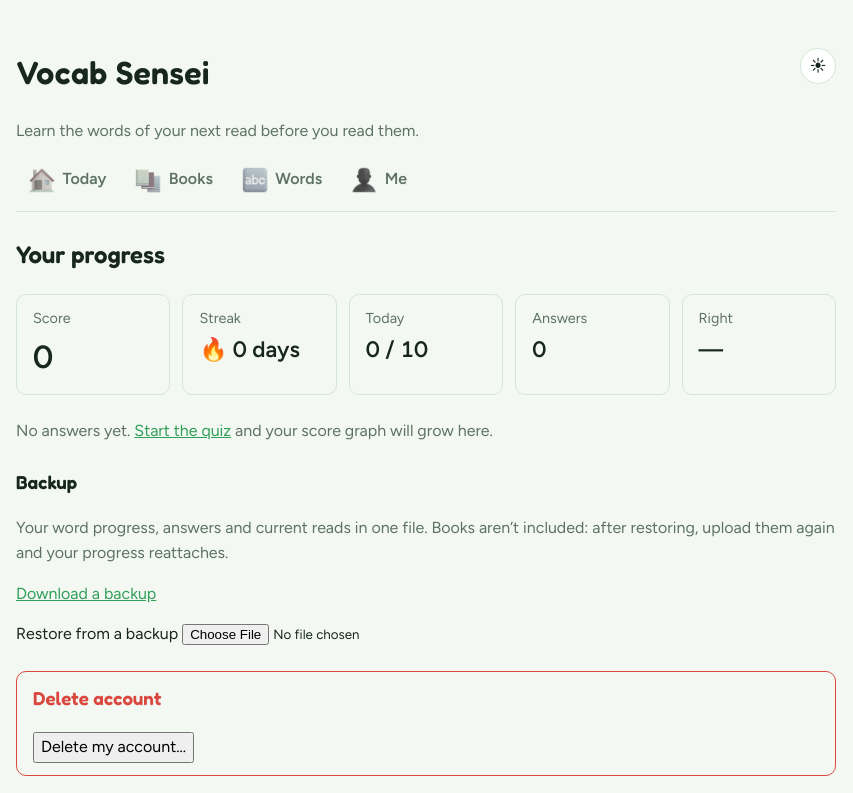
deleting the account › asks for the password, deletes and logs out
Click the button "Delete my account…".
click(114, 747)  # box [33, 732, 194, 763]
(page scrolled)
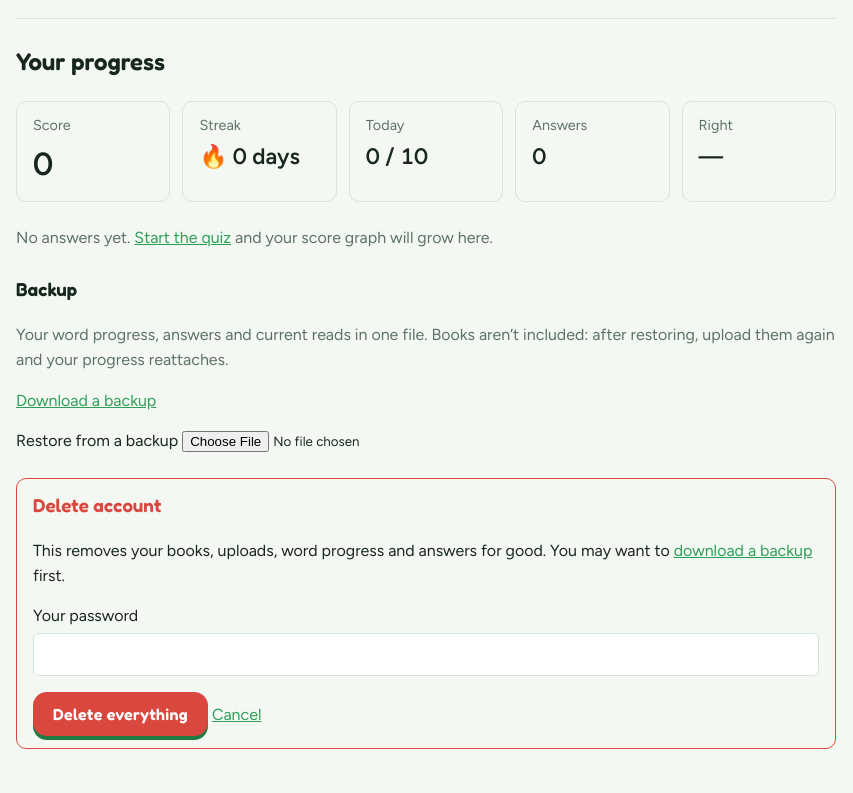
Type "correct horse battery" into the password field labelled "Your password".
click(426, 655); type("correct horse battery")  # box [33, 633, 819, 676]
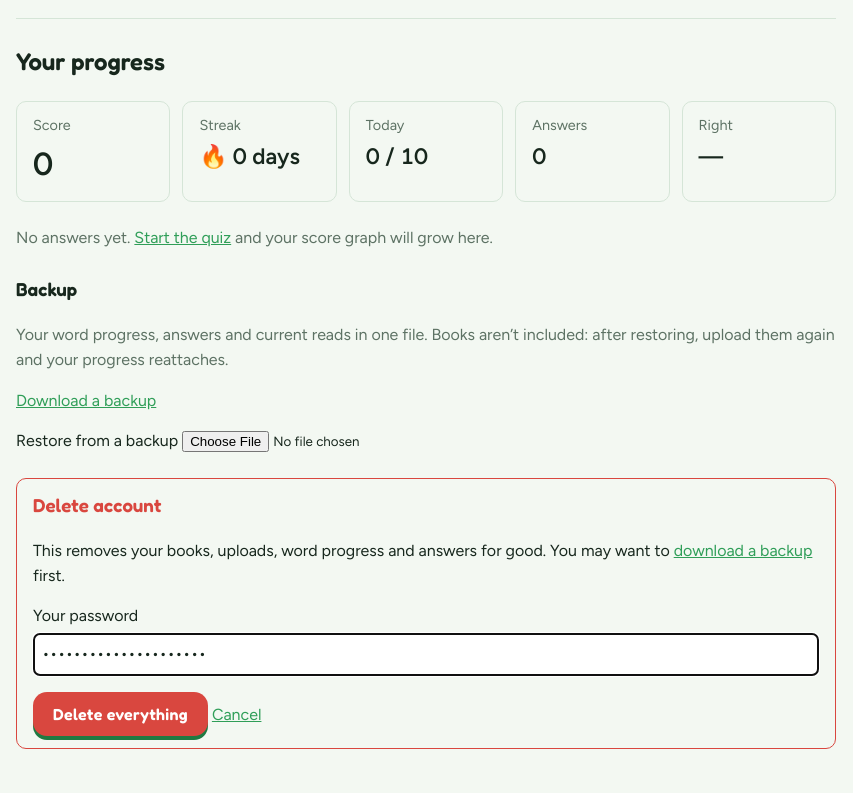
Click the button "Delete everything".
click(120, 714)  # box [33, 692, 208, 736]
(page scrolled)
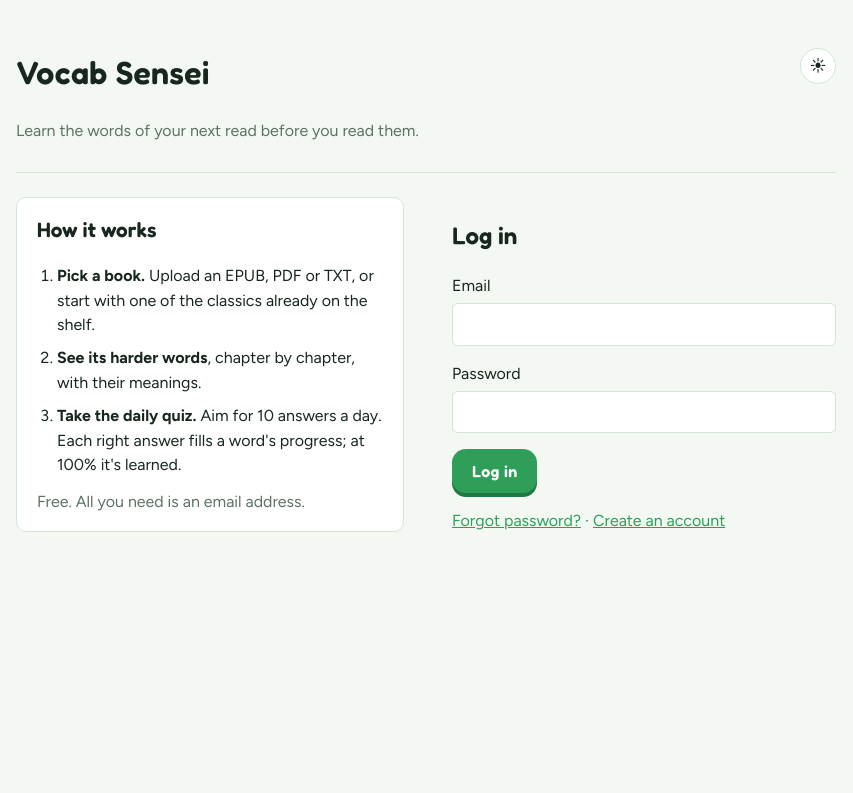
Expected: the heading "Log in" is shown, [452, 221, 517, 250]
